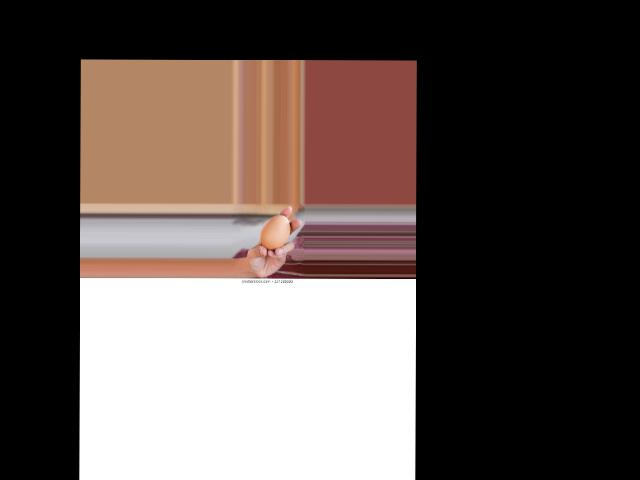egg: (261, 215, 291, 249)
